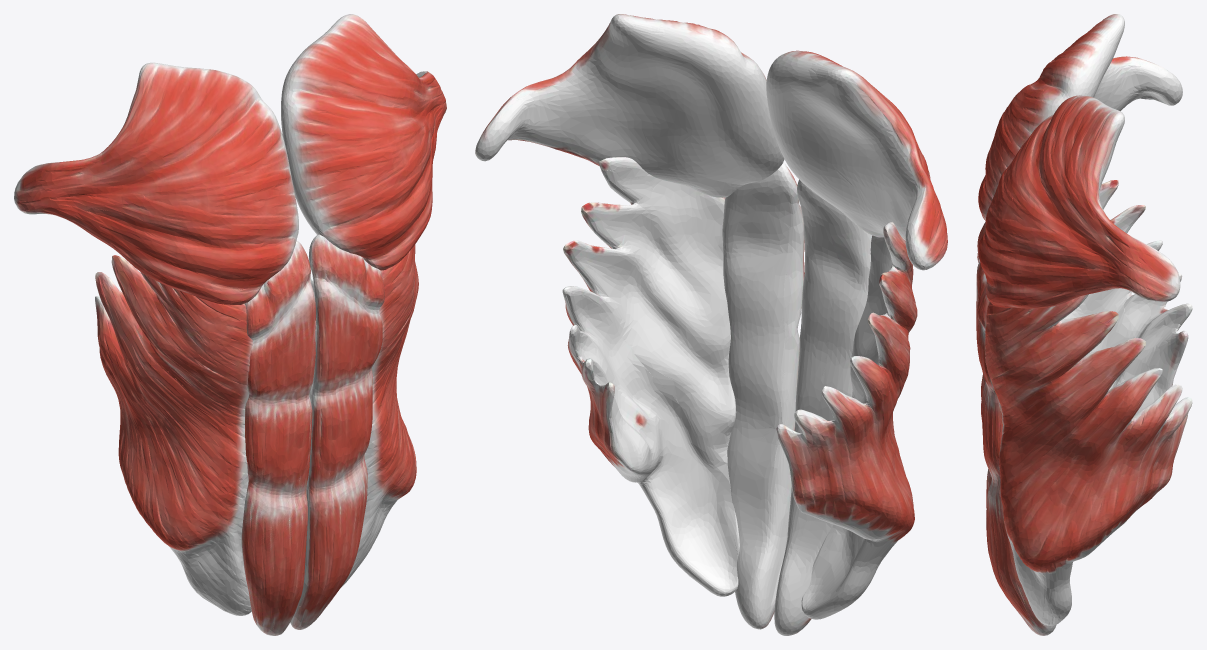
Rendered from SubTool-6-14274967.OBJ.
3 views of the same model, side by side, from view 1: azimuth 30°, elevation 25°; view 2: azimuth 150°, elevation 25°; view 3: azimuth 270°, elevation 25° (orthographic). The views are drawn at different scales.
Visible parts, largest first — view 1: Group3177; view 2: Group3177; view 3: Group3177.
Part boxes in pixels (bbox=[...]): Group3177: bbox=[14, 14, 446, 635]; Group3177: bbox=[475, 14, 947, 635]; Group3177: bbox=[976, 14, 1192, 635].
Bounding box in the file's own units: 17.29 × 22.31 × 7.74.
1 material, 1 textured.
